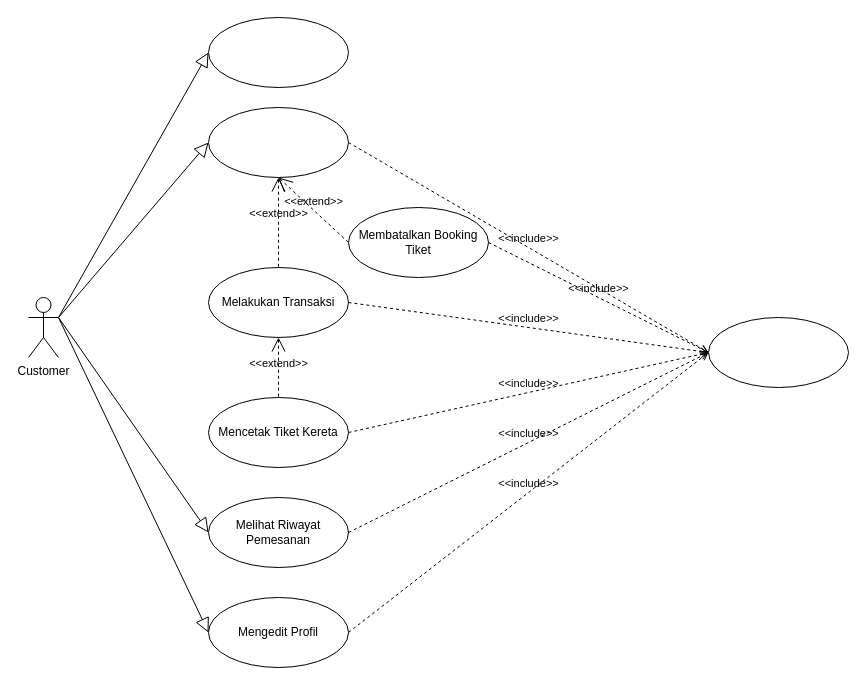
This 866x685 diagram has some shape labels left out. Each missing label, with the centre of its shape:
"Log In/Registrasi" belongs at [778,352].
"Melakukan Pemesanan Tiket Kereta" belongs at [278,142].
"Melihat Jadwal Kereta" belongs at [278,52].
